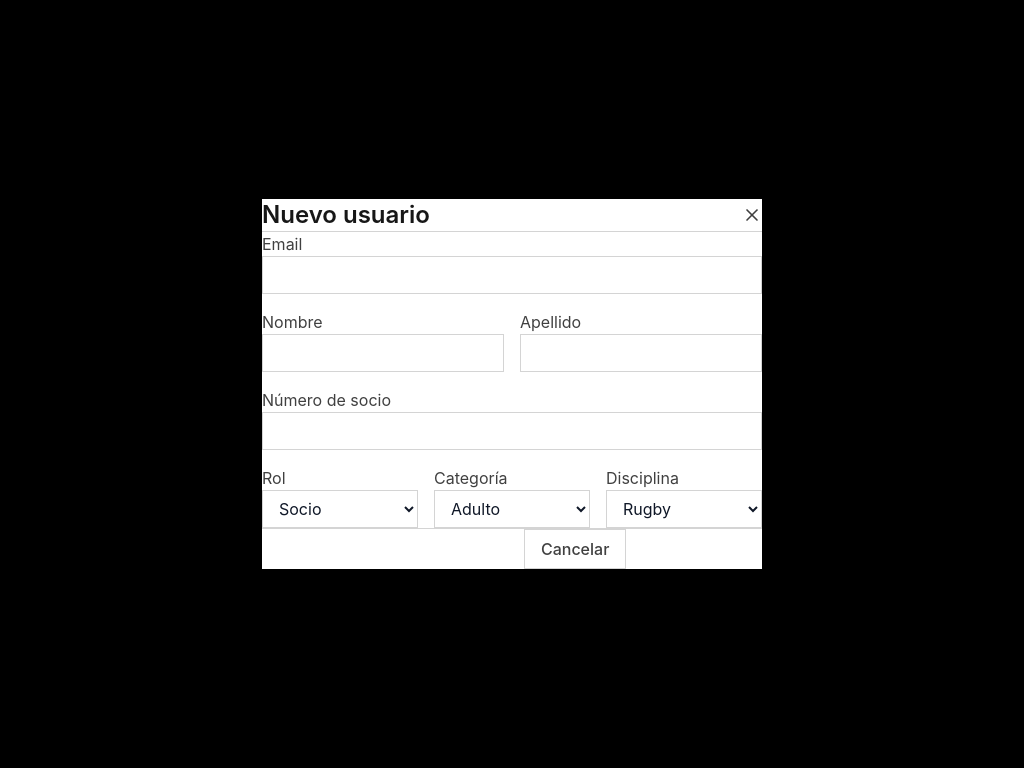
Scenario: CreateUserModal › shows validation errors for empty required fields
Click the button "Crear usuario".
click(694, 549)  # box top-left (626, 529), bottom-right (762, 569)
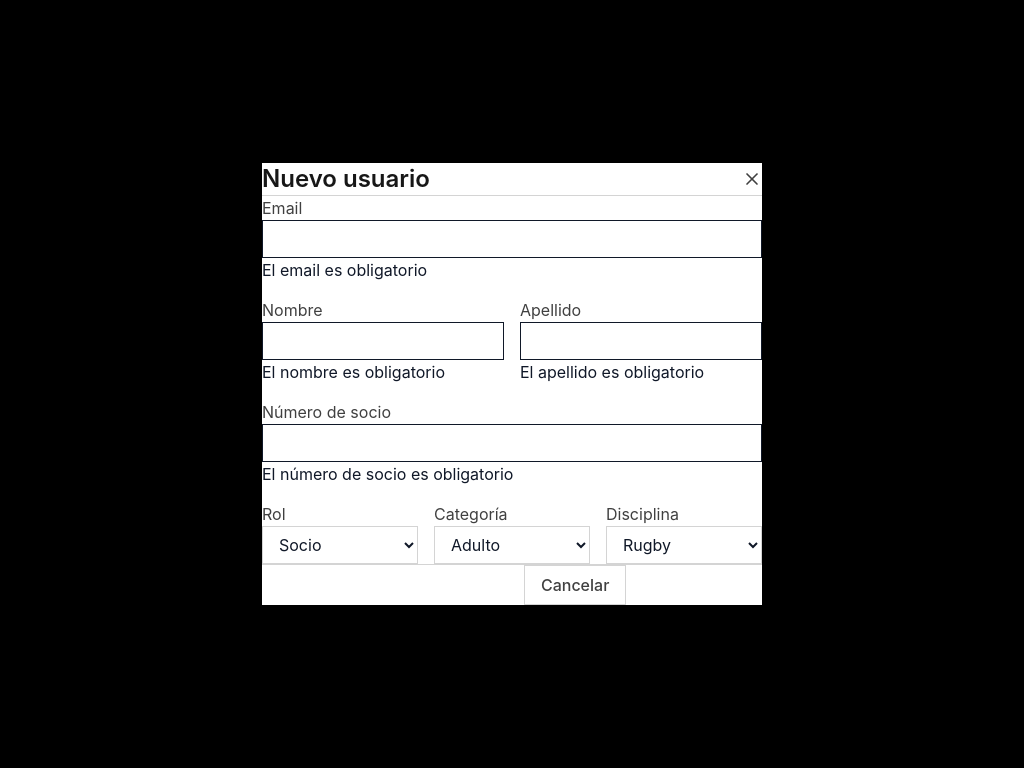
Expected: the text "El email es obligatorio" is shown, top-left (262, 260), bottom-right (427, 280)
Expected: the text "El nombre es obligatorio" is shown, top-left (262, 362), bottom-right (445, 382)
